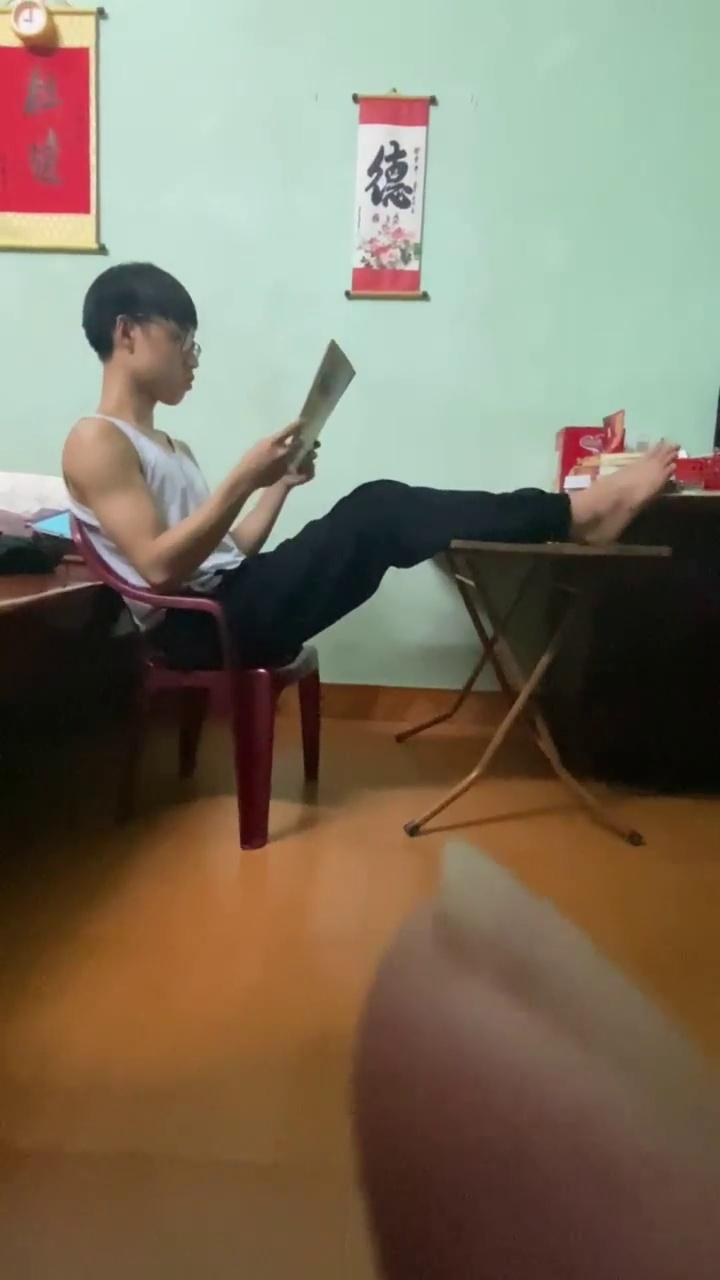BadPosture: (223, 443, 676, 665)
